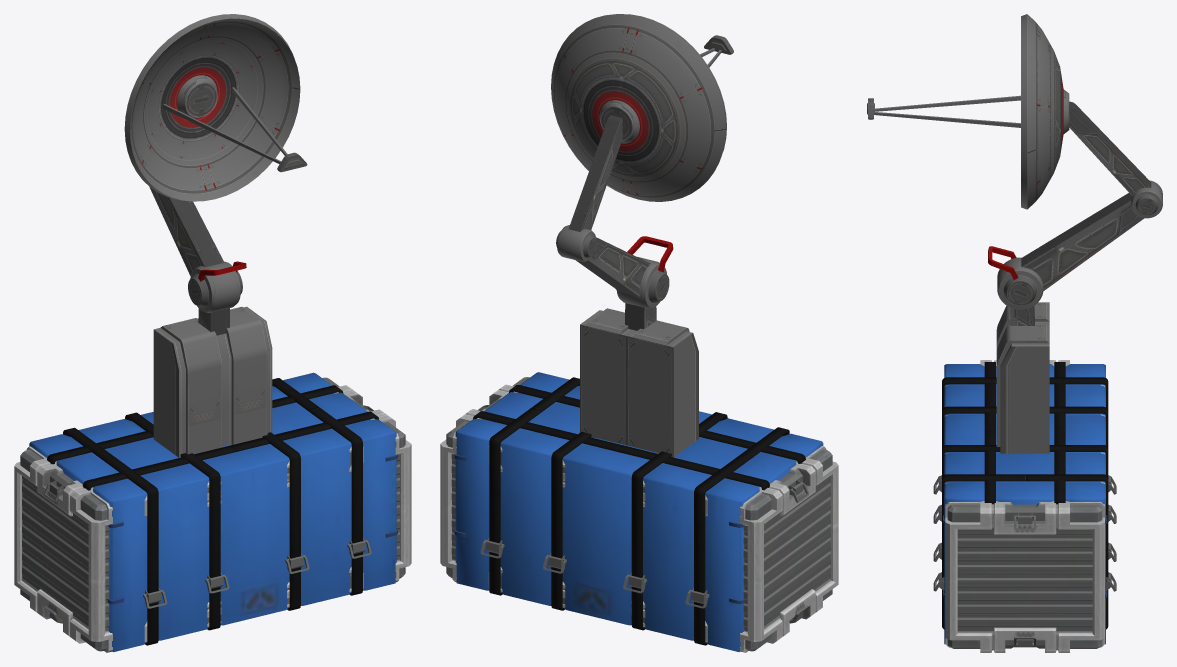
Rendered from props.glb.
3 renders of one model, left to right at view 1: azimuth 30°, elevation 25°; view 2: azimuth 150°, elevation 25°; view 3: azimuth 270°, elevation 25°, orthographic. The views are drawn at different scales.
Parts seen in each view (by area): view 1: Prop_Crate_Tarp_Large, Prop_SatelliteDish, Prop_Crate_Large, Prop_Locker; view 2: Prop_Crate_Tarp_Large, Prop_SatelliteDish, Prop_Crate_Large, Prop_Locker; view 3: Prop_Crate_Large, Prop_Crate_Tarp_Large, Prop_SatelliteDish, Prop_Locker.
Boxes of the visible parts, x1,y1,x2,y2 form: Prop_Crate_Tarp_Large: [29, 372, 397, 652]; Prop_SatelliteDish: [124, 14, 307, 335]; Prop_Crate_Large: [14, 377, 411, 652]; Prop_Locker: [153, 306, 272, 457]; Prop_Crate_Tarp_Large: [454, 372, 823, 651]; Prop_SatelliteDish: [551, 14, 733, 330]; Prop_Crate_Large: [440, 377, 838, 652]; Prop_Locker: [580, 308, 698, 457]; Prop_Crate_Large: [945, 360, 1104, 652]; Prop_Crate_Tarp_Large: [933, 362, 1116, 644]; Prop_SatelliteDish: [867, 14, 1162, 325]; Prop_Locker: [996, 302, 1049, 453].
Size of the model in its own units: 3.47 by 5.79 by 2.78.
Materials: 6 (6 with a texture image).
